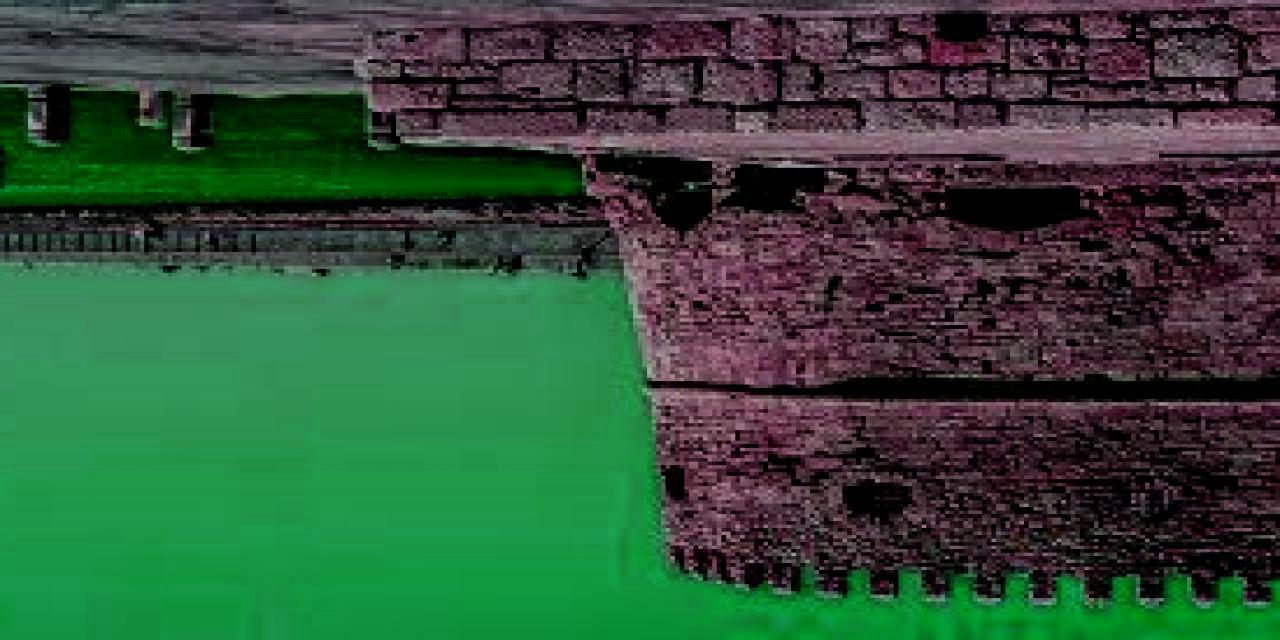Kules: (575, 153, 1280, 616)
